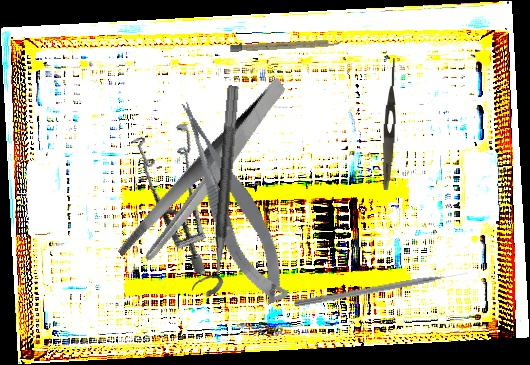Dressing Forceps: (86, 76, 323, 273), (380, 57, 399, 191)
Fixation Ring: (190, 83, 241, 299)
Micro Scissor: (171, 90, 295, 313)
Pusher: (293, 269, 469, 310)
Scalpel Handle: (229, 39, 344, 52)
Speculum: (99, 109, 247, 277)
